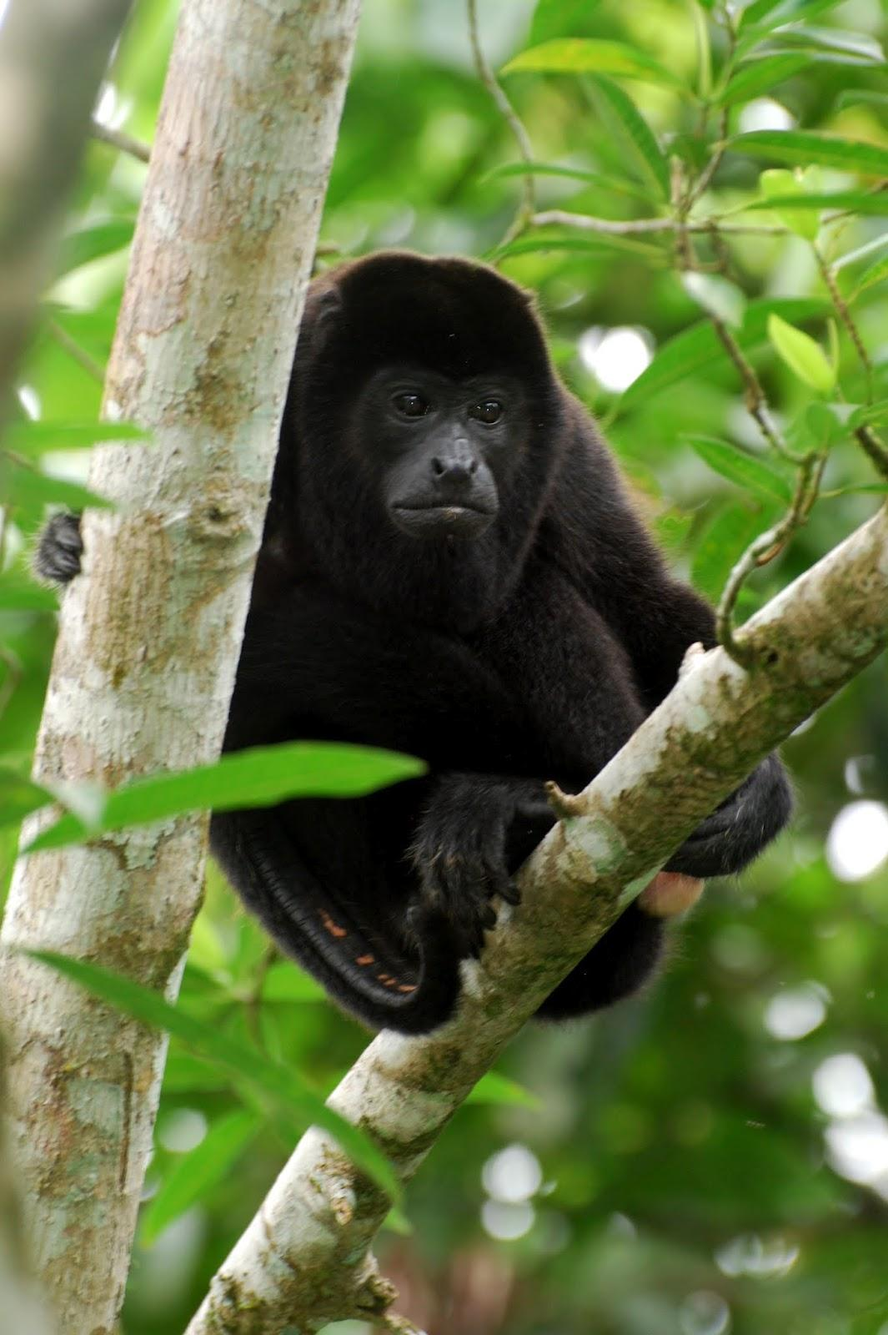monkey: (211, 251, 722, 1033)
